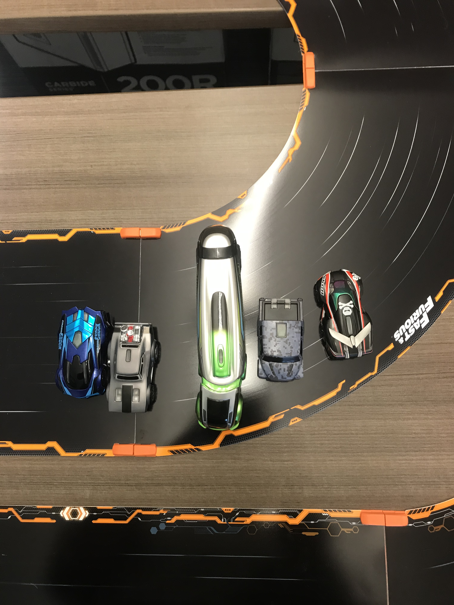Charger: (106, 320, 161, 411)
Freewheel: (190, 227, 248, 431)
MXT: (258, 294, 305, 383)
Shock: (57, 304, 106, 399)
Skull: (315, 268, 375, 361)
